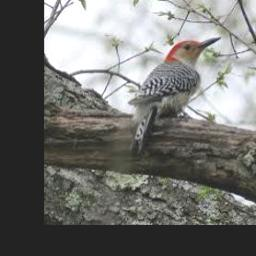Woodpecker: (129, 36, 222, 154)
